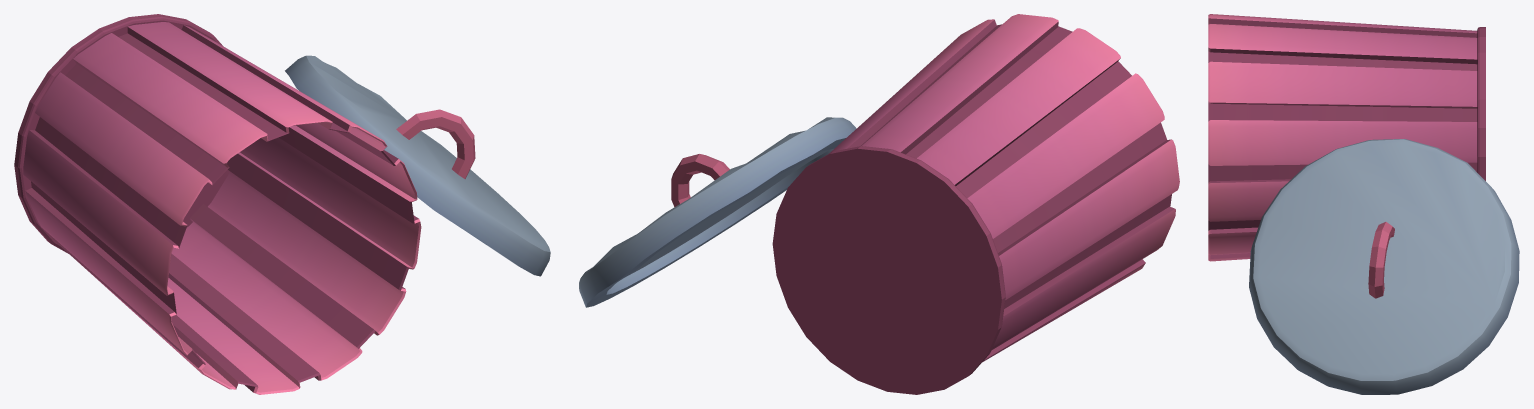
The model's file is ÇopKovası.fbx.
The picture shows the model from 3 angles, left to right: view 1: azimuth 30°, elevation 25°; view 2: azimuth 150°, elevation 25°; view 3: azimuth 270°, elevation 25°; orthographic projection. The views are drawn at different scales.
Parts seen in each view (by area): view 1: Cylinder, Cylinder.001; view 2: Cylinder, Cylinder.001; view 3: Cylinder.001, Cylinder.
Part boxes in pixels (x1=…): Cylinder: x1=14, y1=14, x2=421, y2=394; Cylinder.001: x1=285, y1=55, x2=550, y2=276; Cylinder: x1=772, y1=14, x2=1179, y2=394; Cylinder.001: x1=579, y1=117, x2=856, y2=307; Cylinder.001: x1=1249, y1=139, x2=1519, y2=394; Cylinder: x1=1208, y1=14, x2=1485, y2=261.
Size of the model in its own units: 550 by 317 by 378.
